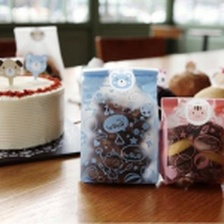snack: (72, 61, 166, 190), (157, 91, 224, 194)
